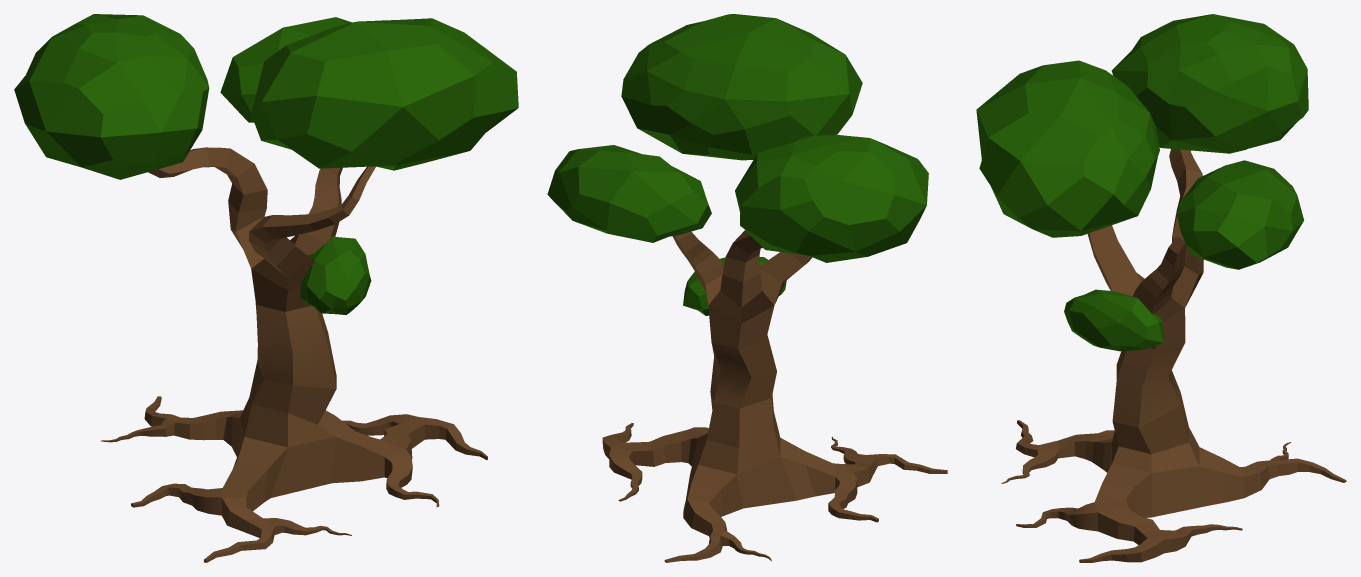
Rendered from Forest_Tree_Platforms_4_10_4_v02_Thick_Colored.fbx.
3 renders of one model, left to right at view 1: azimuth 30°, elevation 25°; view 2: azimuth 150°, elevation 25°; view 3: azimuth 270°, elevation 25°, orthographic. The views are drawn at different scales.
Visible parts, largest first — view 1: Leaves_Bush2, Leaves_Bush1, Tree_Main_Trunk, Tree_Root_03, Tree_Root_02, Leaves_Bush3, Tree_Branch_01, Tree_Branch_03, Leaves_Bush, Tree_Root_01, Tree_Branch_02; view 2: Leaves_Bush2, Leaves_Bush1, Tree_Main_Trunk, Leaves_Bush, Tree_Root_03, Tree_Root_01, Tree_Root_02, Tree_Branch_03, Tree_Branch_02, Tree_Branch_01, Leaves_Bush3; view 3: Leaves_Bush2, Leaves_Bush1, Tree_Main_Trunk, Leaves_Bush, Tree_Root_02, Leaves_Bush3, Tree_Root_01, Tree_Root_03, Tree_Branch_02, Tree_Branch_01, Tree_Branch_03.
Boxes of the visible parts, box(x1,y1,x2,y2) form: Leaves_Bush2: box(251, 18, 518, 170); Leaves_Bush1: box(14, 14, 209, 179); Tree_Main_Trunk: box(231, 216, 337, 497); Tree_Root_03: box(131, 437, 351, 562); Tree_Root_02: box(332, 414, 487, 506); Leaves_Bush3: box(300, 236, 371, 314); Tree_Branch_01: box(248, 166, 375, 277); Tree_Branch_03: box(148, 147, 267, 231); Leaves_Bush: box(220, 17, 351, 122); Tree_Root_01: box(101, 396, 242, 456); Tree_Branch_02: box(308, 167, 342, 228); Leaves_Bush2: box(621, 14, 862, 160); Leaves_Bush1: box(735, 134, 928, 262); Tree_Main_Trunk: box(686, 263, 796, 508); Leaves_Bush: box(547, 145, 711, 242); Tree_Root_03: box(780, 436, 947, 522); Tree_Root_01: box(664, 465, 771, 562); Tree_Root_02: box(602, 423, 708, 501); Tree_Branch_03: box(720, 230, 762, 307); Tree_Branch_02: box(672, 231, 723, 275); Tree_Branch_01: box(760, 252, 812, 281); Leaves_Bush3: box(683, 257, 786, 315); Leaves_Bush2: box(976, 60, 1159, 237); Leaves_Bush1: box(1111, 14, 1308, 153); Tree_Main_Trunk: box(1106, 267, 1207, 517); Leaves_Bush: box(1177, 160, 1303, 269); Tree_Root_02: box(1016, 463, 1242, 562); Leaves_Bush3: box(1064, 289, 1163, 351); Tree_Root_01: box(1199, 442, 1346, 505); Tree_Root_03: box(1001, 420, 1114, 483); Tree_Branch_02: box(1136, 233, 1187, 304); Tree_Branch_01: box(1087, 225, 1134, 284); Tree_Branch_03: box(1169, 149, 1203, 274).
Bounding box in the file's own units: 1690 × 1922 × 1506.
